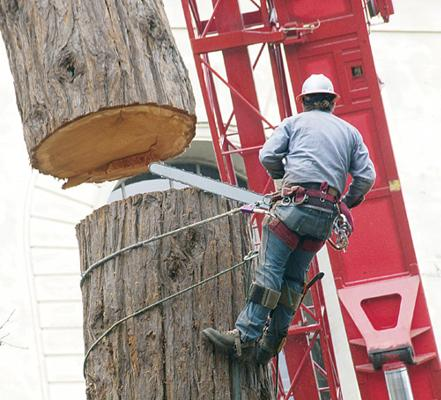person: (204, 73, 377, 362)
